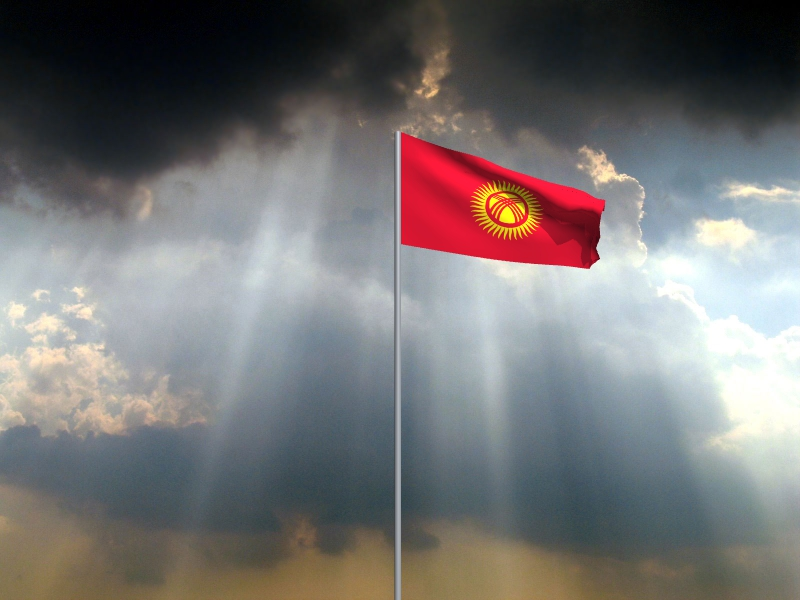kg: (402, 132, 606, 270)
